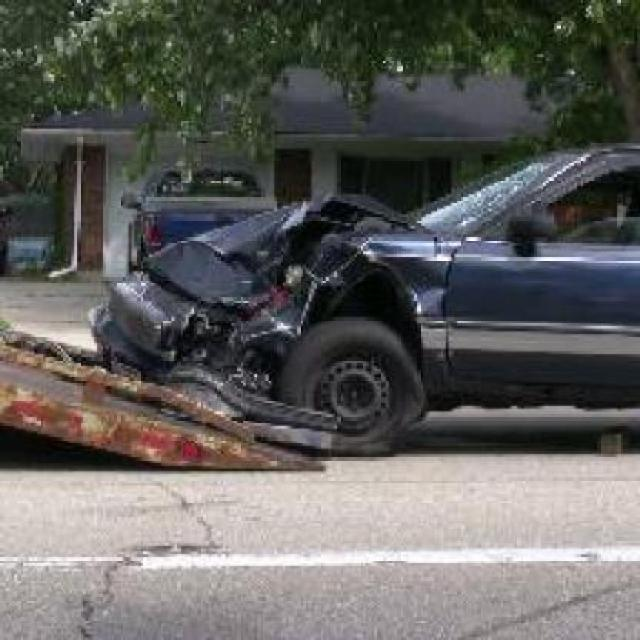damaged-front-bumper: (113, 278, 269, 372)
damaged-hood: (195, 186, 440, 272)
